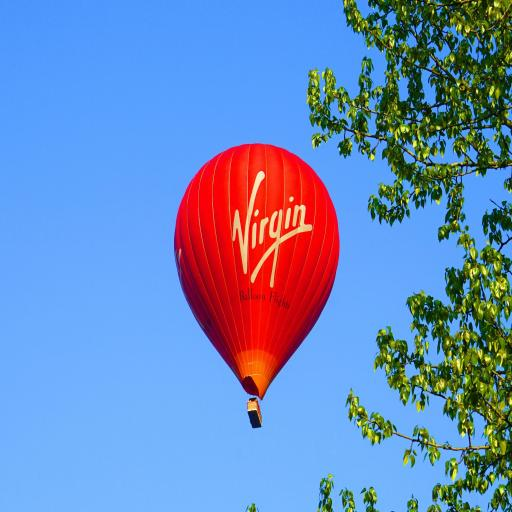hot air ballon: (173, 143, 341, 431)
